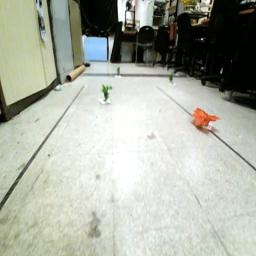herb: (102, 85, 115, 101), (170, 75, 175, 84), (118, 68, 122, 77)
wild: (193, 107, 224, 129)
